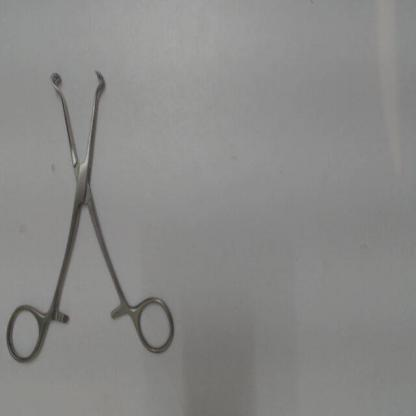Babcock Tissue Forceps: (3, 65, 180, 368)
